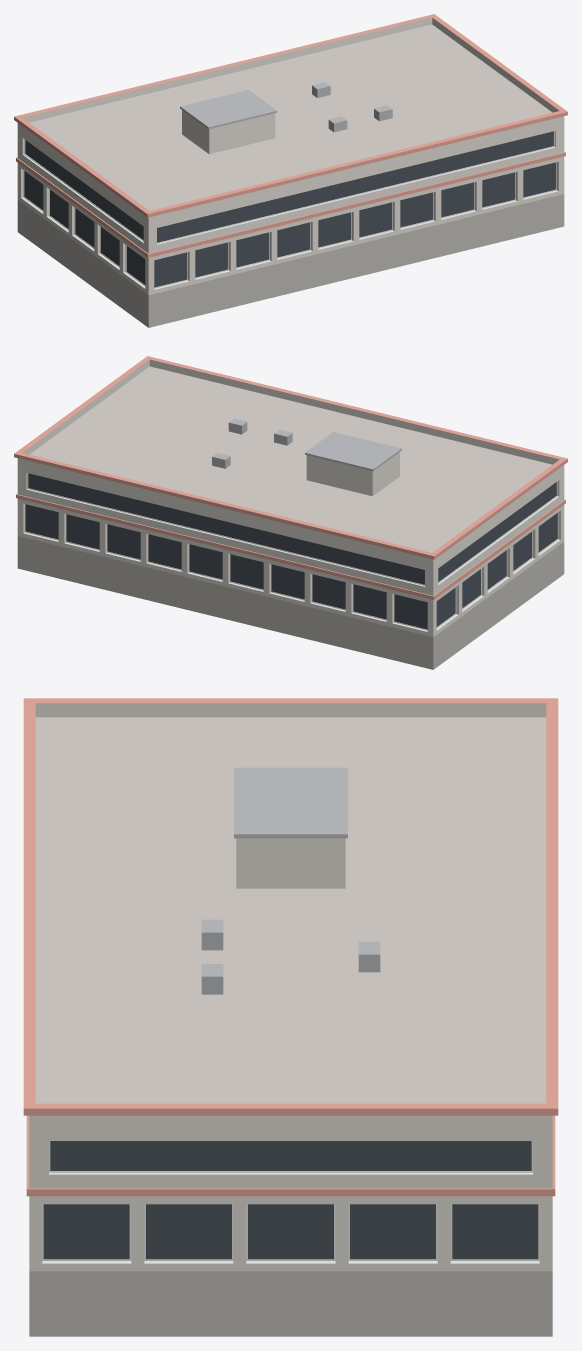
The model's file is office_2_xl.glb.
The picture shows the model from 3 angles, top to bottom: view 1: azimuth 30°, elevation 25°; view 2: azimuth 150°, elevation 25°; view 3: azimuth 270°, elevation 25°; orthographic projection. The views are drawn at different scales.
Parts seen in each view (by area): view 1: office_2_xl; view 2: office_2_xl; view 3: office_2_xl.
Part boxes in pixels (x1,y1,x2,y2): office_2_xl: (14, 14, 567, 327); office_2_xl: (14, 356, 567, 669); office_2_xl: (23, 698, 558, 1336).
Size of the model in its own units: 44.5 by 13.75 by 24.5.
